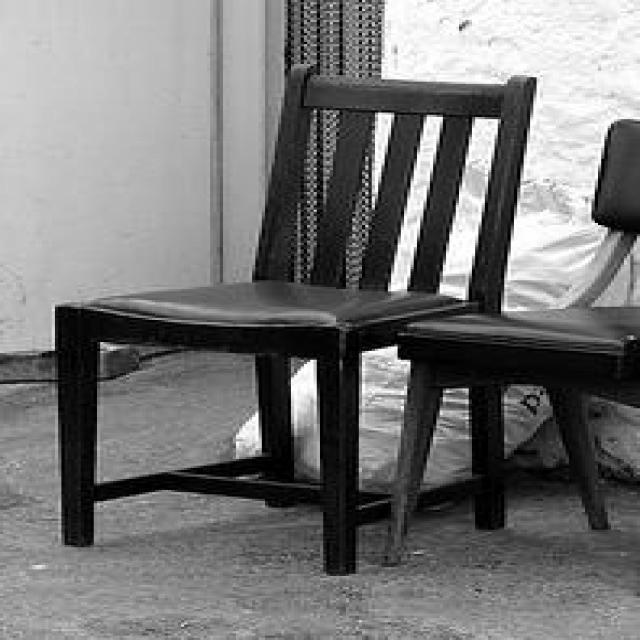chair: (56, 59, 556, 574), (397, 108, 639, 565)
